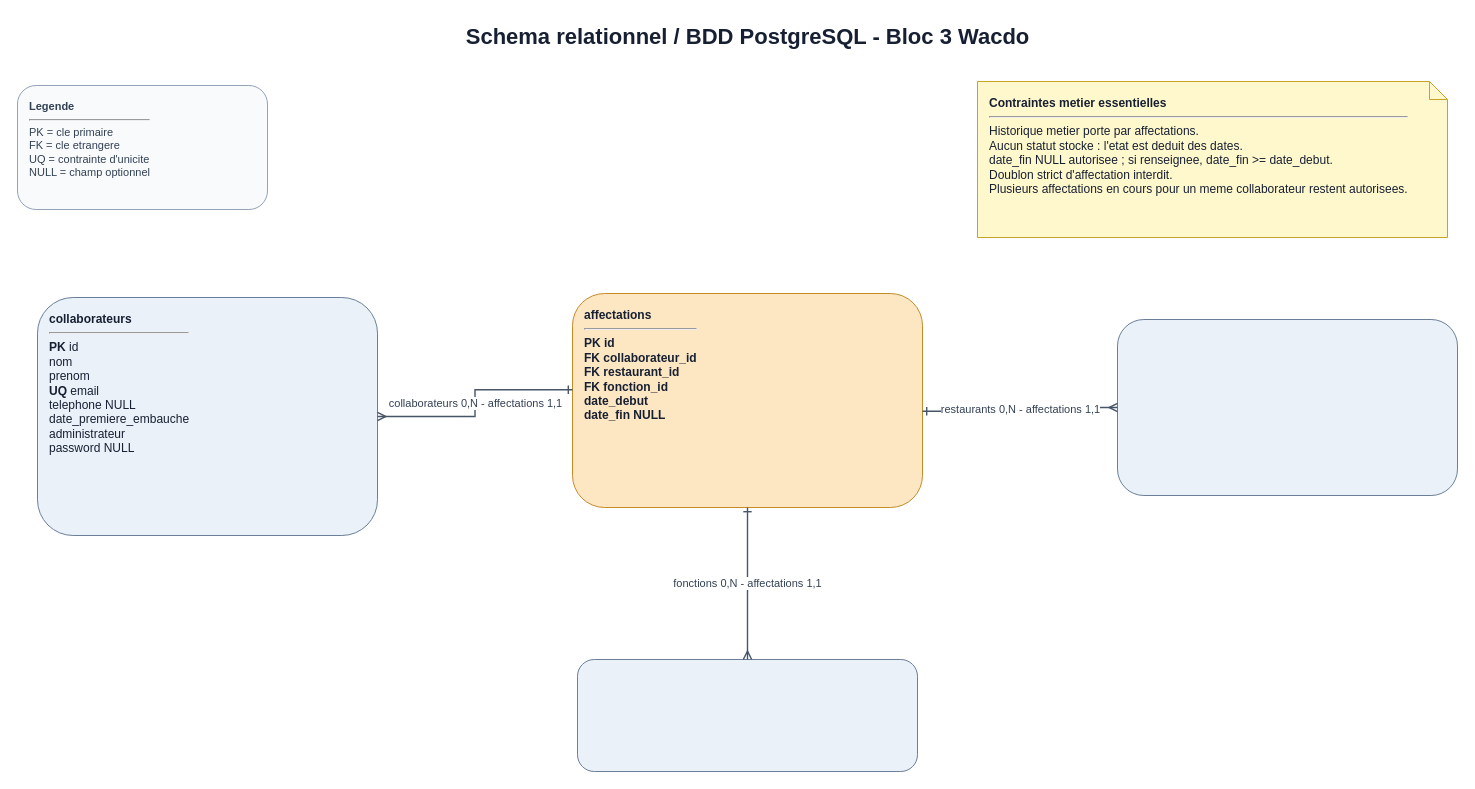
Some shapes in this 1475 by 789 pixel diagram are drawn without their labels. Here are the shapes that lost their labels. From the top down, the box of each, then its label:
(1116, 318, 1458, 496): restaurants PK id nom adresse code_postal ville
(576, 658, 918, 772): fonctions PK id UQ intitule_poste
